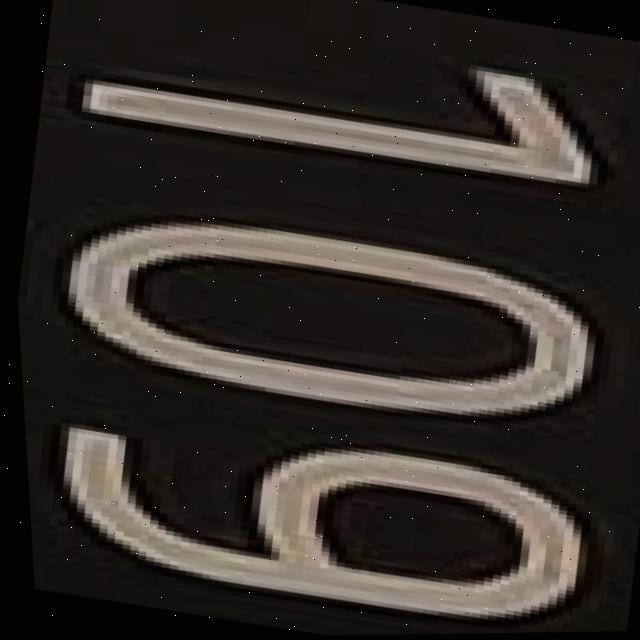character: (29, 180, 617, 459), (23, 384, 600, 640), (47, 0, 629, 217)
